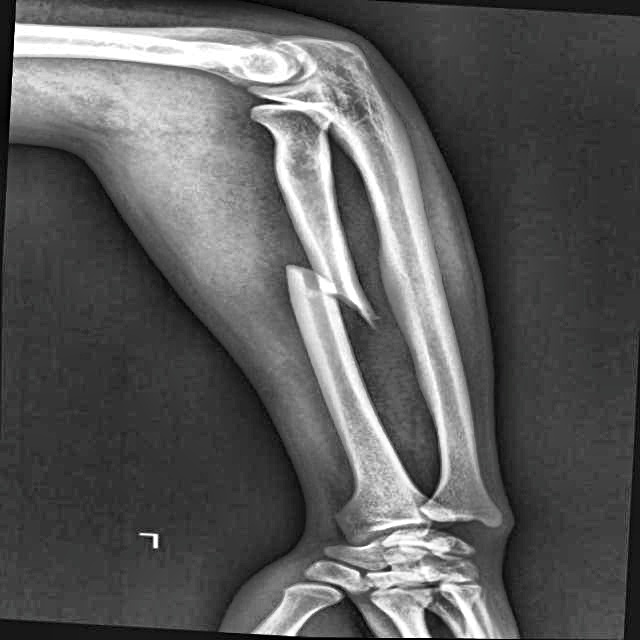Oblique: (264, 245, 379, 349)
